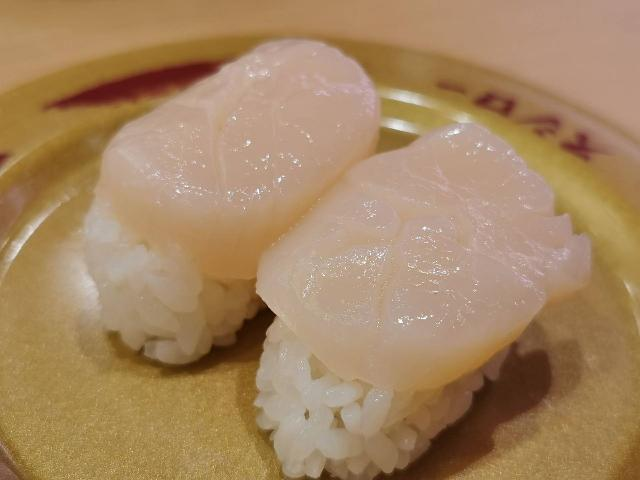jangold: (0, 83, 83, 480), (555, 125, 640, 480), (380, 38, 640, 127), (74, 361, 258, 480), (40, 46, 205, 90)
